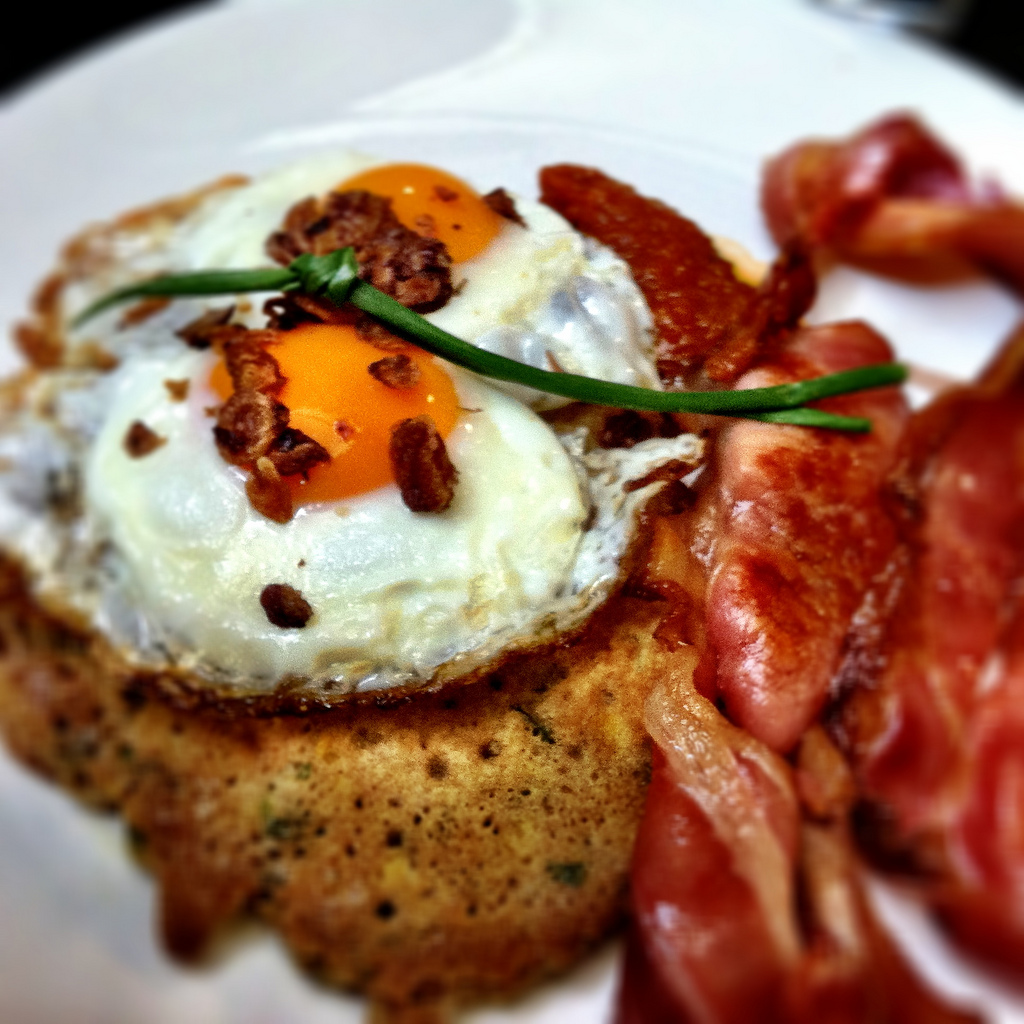fried egg: (1, 324, 598, 647), (180, 170, 640, 382)
slice of bread: (21, 666, 677, 1005)
